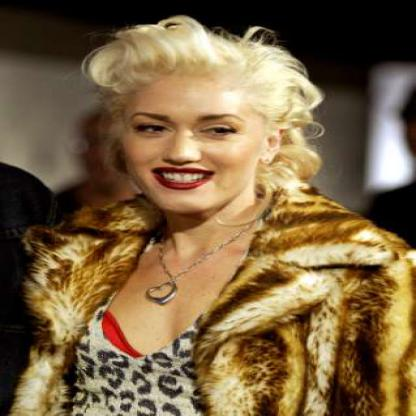face: (118, 50, 270, 215)
